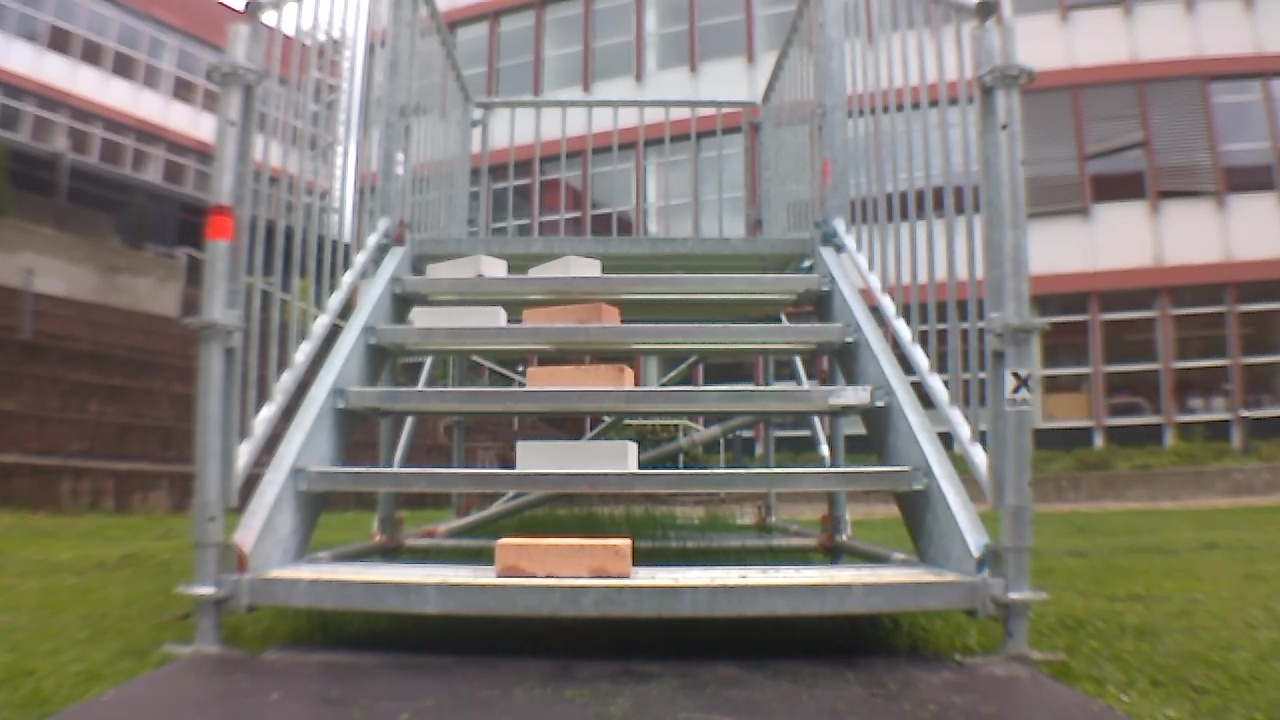brick: (497, 538, 630, 577), (516, 442, 636, 471), (527, 366, 633, 389), (523, 303, 618, 326), (426, 255, 507, 276), (417, 308, 505, 324), (529, 256, 599, 275)
edge: (252, 577, 977, 616), (330, 384, 890, 411), (295, 470, 926, 491), (366, 325, 860, 343), (394, 274, 835, 292), (414, 235, 817, 252)
stairs: (167, 2, 1049, 654)
steps: (243, 231, 984, 625)
